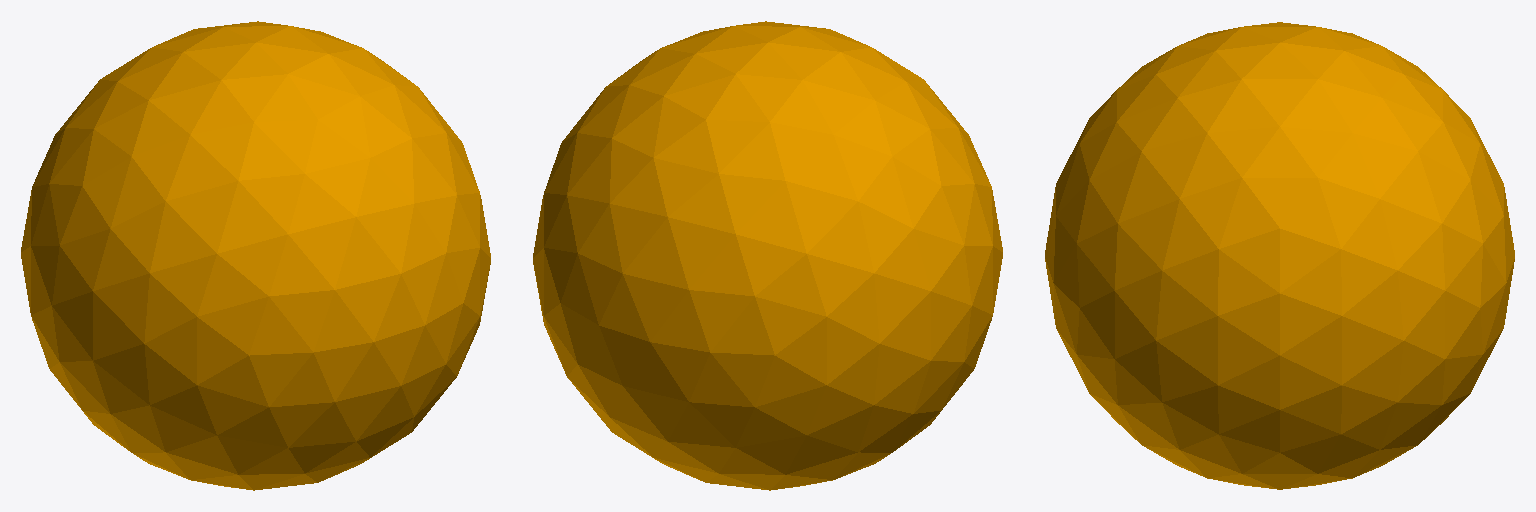
The robot description file, URDF, robot "bead":
<?xml version='1.0' encoding='utf-8'?>
<robot name="bead">
  <link name="body">
    <inertial>
      <origin xyz="0.0 0.0 9.96338649191257e-21" />
      <mass value="0.001" />
      <inertia ixx="1.69e-08" iyy="1.69e-08" izz="1.69e-08" ixy="-1.9381663692474303e-25" ixz="-4.353303368426845e-26" iyz="2.082014654465013e-27" />
    </inertial>
    <visual>
      <geometry>
        <mesh filename="part_00.obj" />
      </geometry>
    </visual>
    <collision>
      <geometry>
        <sphere radius="0.0065" />
      </geometry>
    </collision>
  </link>
</robot>

--- What the picture shows (computed from the rendered views, not written in the file) ---
The picture shows the robot from 3 angles, left to right: view 1: azimuth 30°, elevation 25°; view 2: azimuth 150°, elevation 25°; view 3: azimuth 270°, elevation 25°; orthographic projection.
Robot: bead — 1 links, 0 joints (none); root link body; default pose: every joint at zero.
Visible links, largest first — view 1: body; view 2: body; view 3: body.
Link boxes in pixels (x1,y1,x2,y2): body: (21, 21, 490, 490); body: (533, 21, 1002, 490); body: (1045, 22, 1514, 489).
Size in the robot's own frame: 0.013 by 0.013 by 0.013 metres.
1 mesh visuals loaded from 1 distinct referenced files (1 OBJ).
